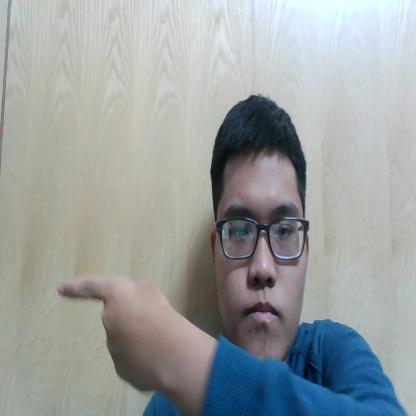right: (50, 264, 186, 398)
